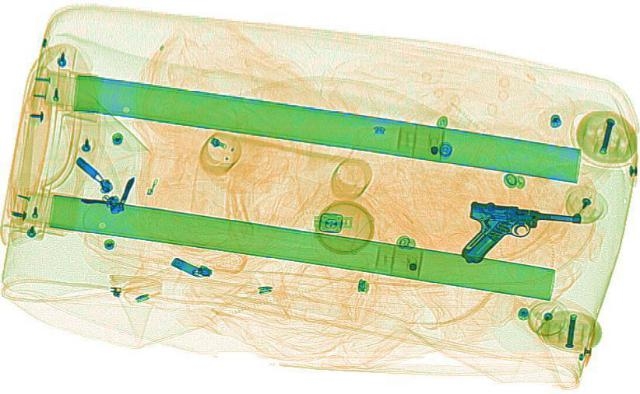Gun: (452, 199, 586, 268)
